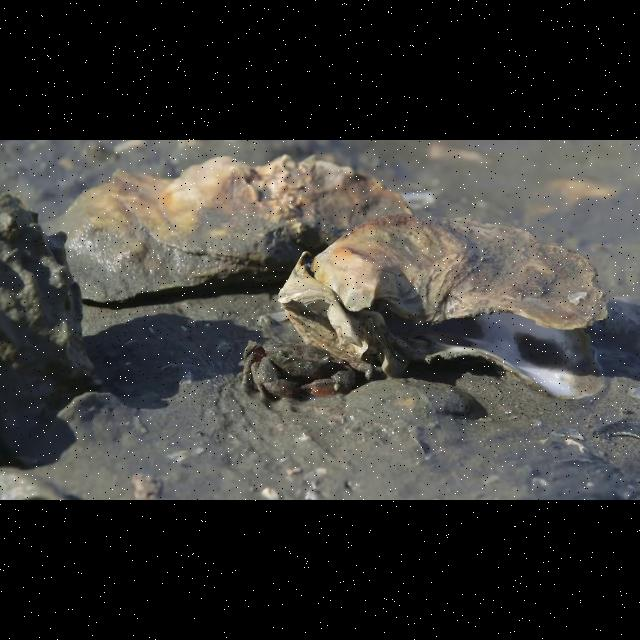Oyster-Closed: (37, 150, 417, 306)
Oyster-Open: (282, 212, 620, 406)
